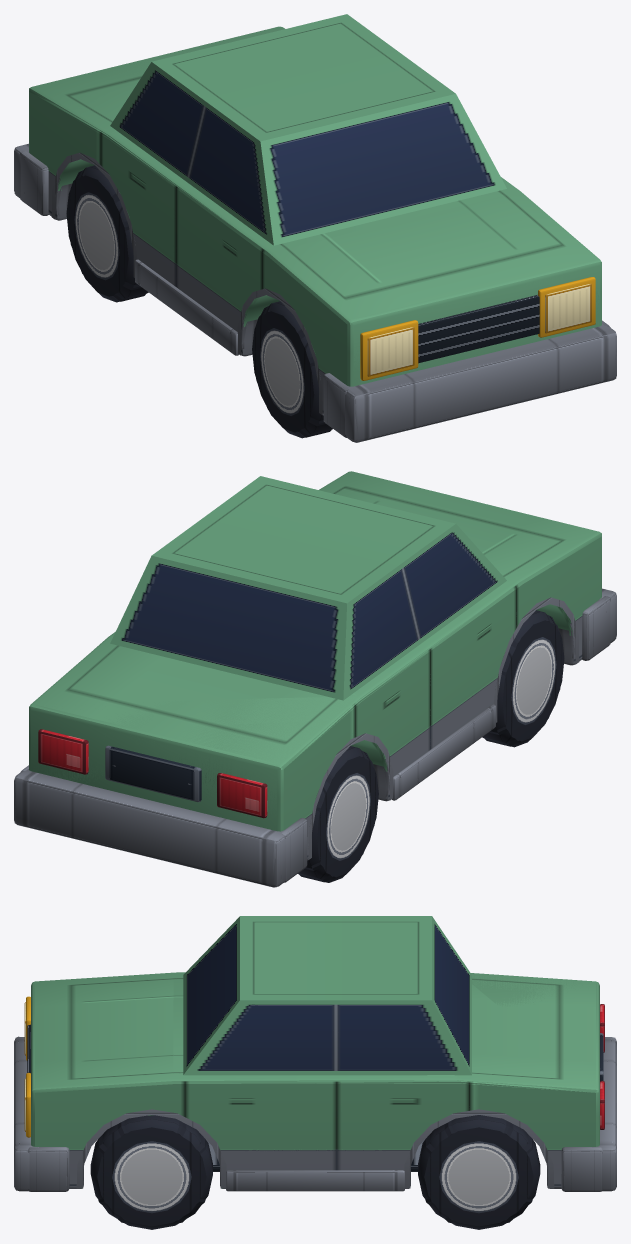
Rendered from green-sedan.glb.
3 renders of one model, top to bottom at view 1: azimuth 30°, elevation 25°; view 2: azimuth 150°, elevation 25°; view 3: azimuth 270°, elevation 25°, orthographic. The views are drawn at different scales.
Visible parts, largest first — view 1: body, lod, wheel-rear-left, wheel-front-left; view 2: body, lod, wheel-front-left, wheel-rear-left; view 3: body, lod, wheel-front-right, wheel-rear-right.
Boxes of the visible parts, x1=… form: body: x1=14, y1=14, x2=616, y2=442; lod: x1=14, y1=27, x2=616, y2=442; wheel-rear-left: x1=66, y1=165, x2=148, y2=302; wheel-front-left: x1=252, y1=301, x2=332, y2=438; body: x1=14, y1=471, x2=616, y2=887; lod: x1=14, y1=471, x2=616, y2=887; wheel-front-left: x1=482, y1=610, x2=564, y2=747; wheel-rear-left: x1=298, y1=746, x2=378, y2=882; body: x1=14, y1=916, x2=616, y2=1191; lod: x1=14, y1=972, x2=616, y2=1223; wheel-front-right: x1=90, y1=1115, x2=212, y2=1229; wheel-rear-right: x1=418, y1=1115, x2=540, y2=1229.
Bounding box in the file's own units: 1.9 × 1.71 × 4.24.
Materials: 1 (1 with a texture image).
